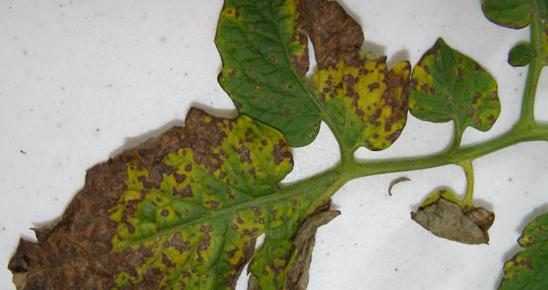Tomato Septoria leaf spot: (0, 108, 299, 290), (206, 0, 425, 161), (234, 198, 357, 290), (402, 30, 500, 138), (475, 183, 548, 290), (455, 0, 548, 76)
